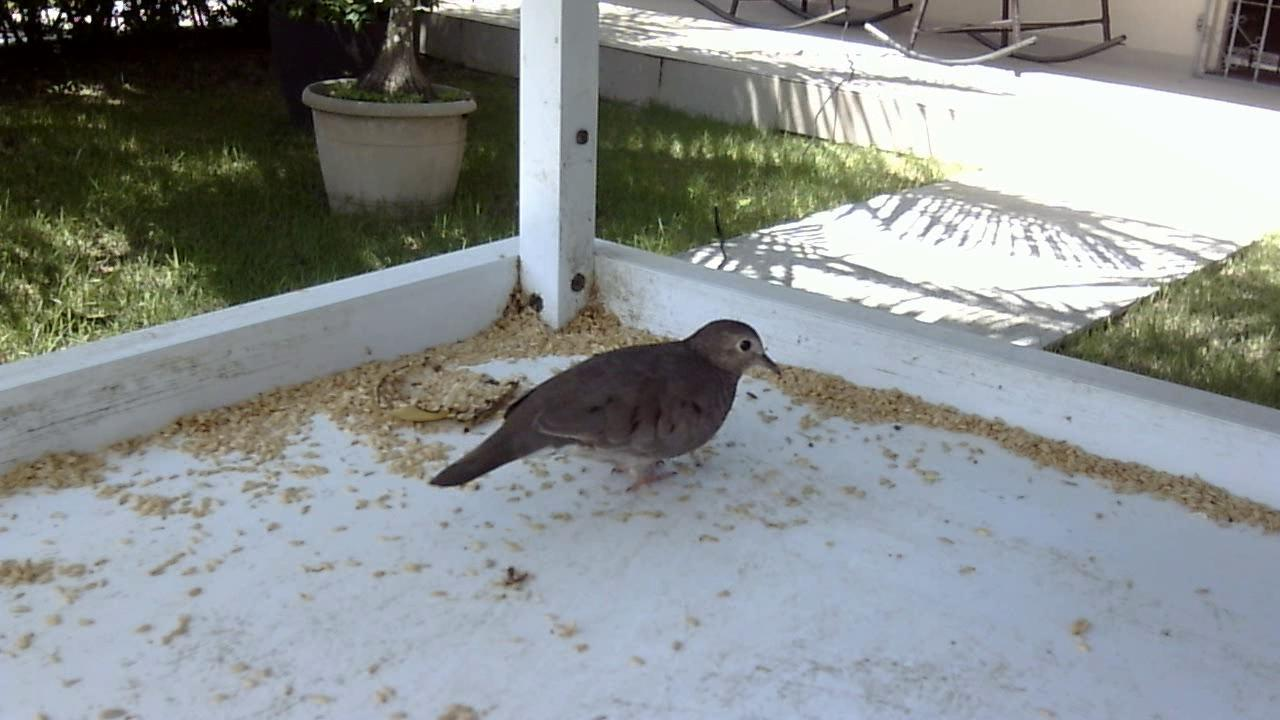rolinha: (419, 305, 789, 515)
